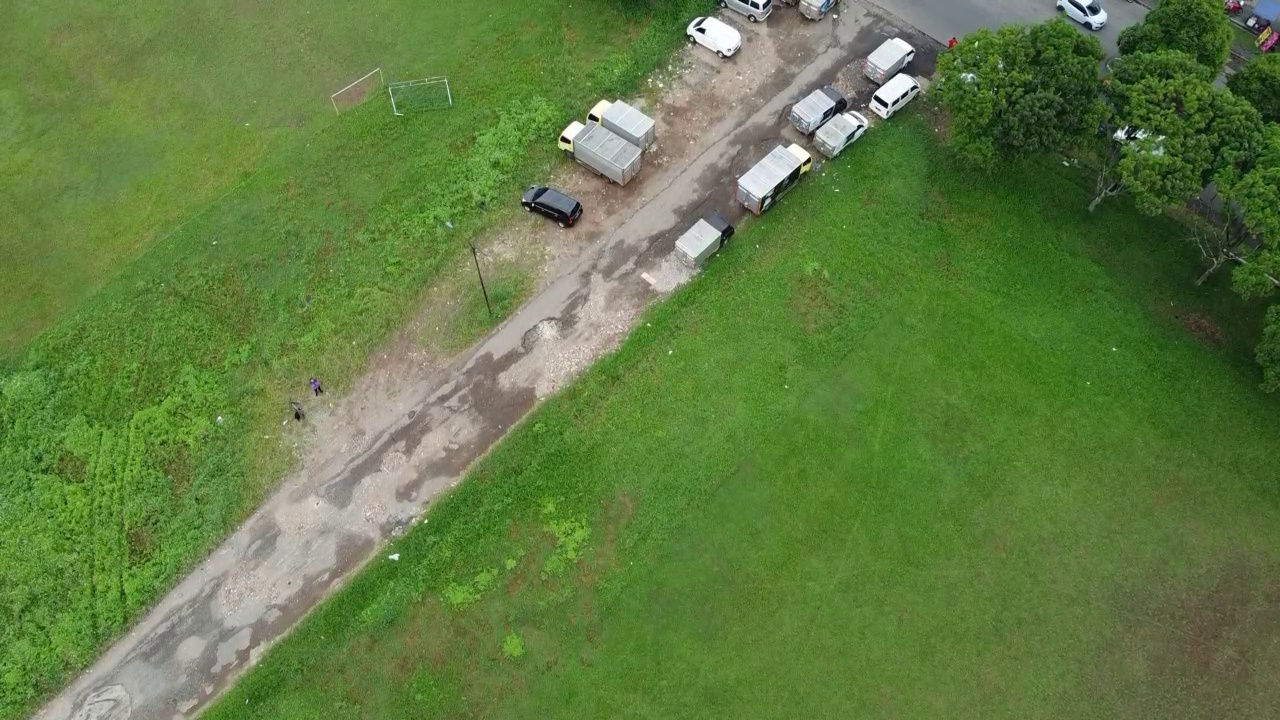mobil: (520, 179, 587, 233), (687, 12, 745, 63), (867, 72, 925, 120), (1053, 1, 1111, 38), (717, 1, 777, 30)
